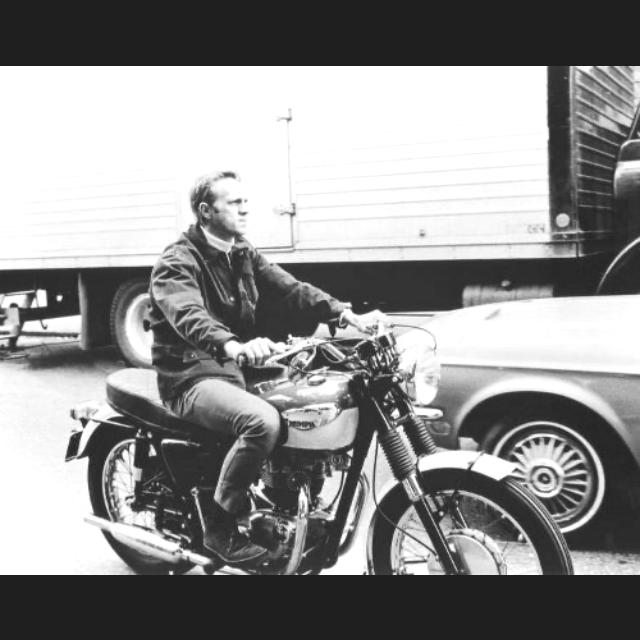Without Helmet: (182, 166, 250, 234)
